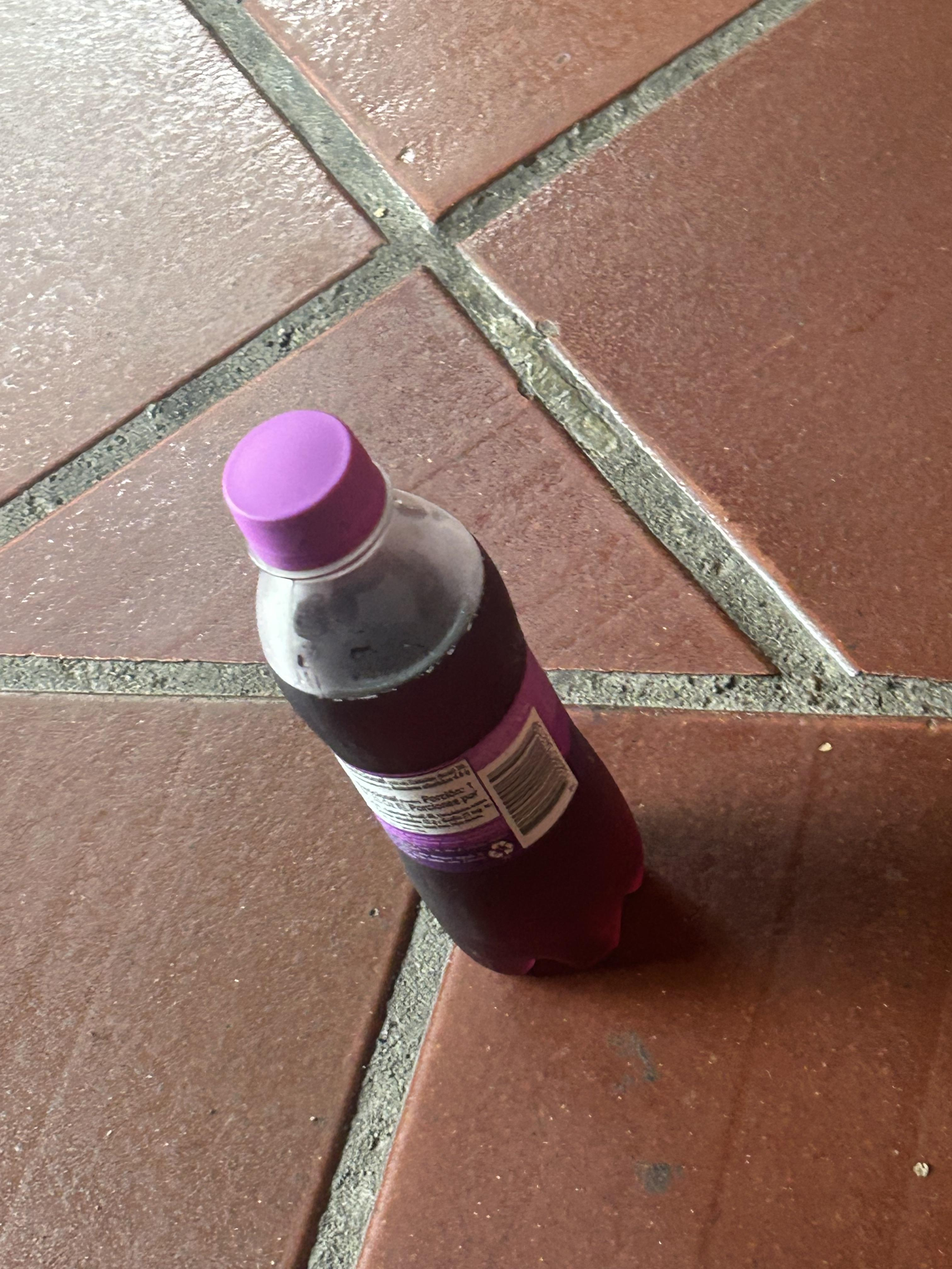uva: (223, 410, 642, 974)
